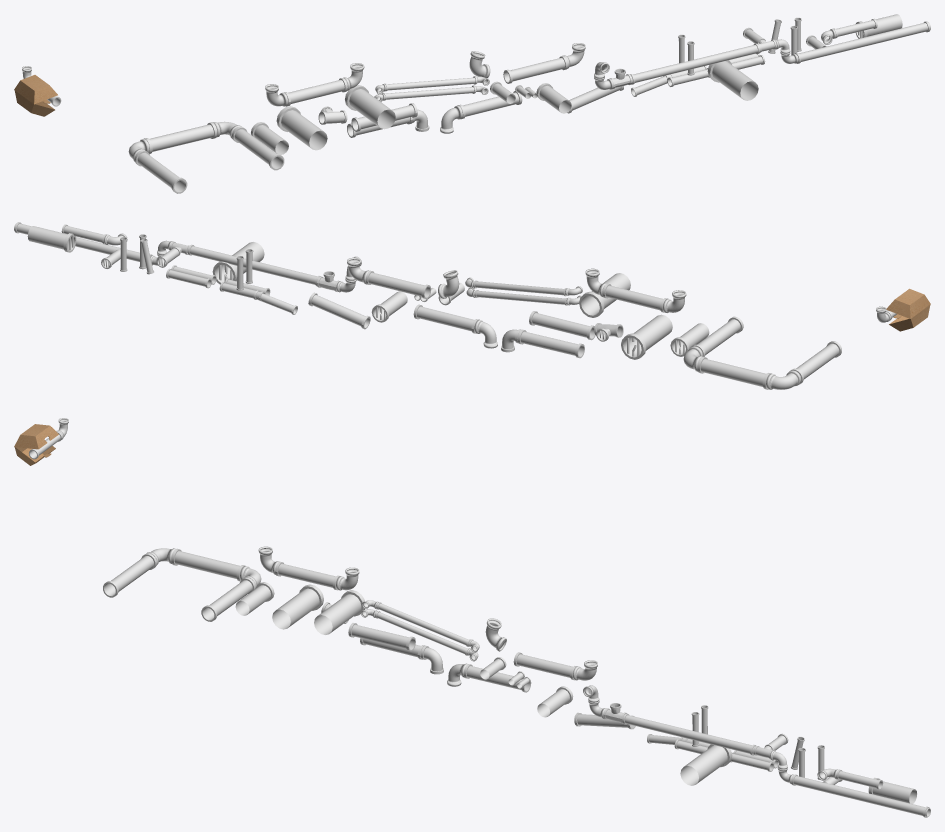
File: tuberias_one_for_all.fbx
3 views of the same model, one above another, from view 1: azimuth 30°, elevation 25°; view 2: azimuth 150°, elevation 25°; view 3: azimuth 330°, elevation 25° (orthographic).
Parts seen in each view (by area): view 1: Cylinder.003, Cylinder.023, Cylinder.040, Cylinder.047, Cylinder.022, Cylinder.055, Cylinder.058, Cylinder.059, Cylinder.064, Cylinder.049, CajaArriba, Cylinder.041 (+12 smaller); view 2: Cylinder.040, Cylinder.023, Cylinder.055, Cylinder.047, Cylinder.037, Cylinder.039, Cylinder.064, Cylinder.049, Cylinder.035, CajaArriba, Cylinder.025, Cylinder.011 (+17 smaller); view 3: Cylinder.003, Cylinder.023, Cylinder.040, Cylinder.047, Cylinder.022, Cylinder.055, Cylinder.059, Cylinder.058, Cylinder.039, Cylinder.049.
Part boxes in pixels (left/top/right/bottom): Cylinder.003: left=795, top=21, right=930, bottom=63; Cylinder.023: left=630, top=43, right=760, bottom=84; Cylinder.040: left=276, top=106, right=327, bottom=150; Cylinder.047: left=345, top=85, right=395, bottom=129; Cylinder.022: left=707, top=60, right=758, bottom=100; Cylinder.055: left=144, top=122, right=217, bottom=153; Cylinder.058: left=232, top=126, right=284, bottom=170; Cylinder.059: left=134, top=150, right=187, bottom=193; Cylinder.064: left=503, top=56, right=568, bottom=83; Cylinder.049: left=284, top=78, right=347, bottom=106; CajaArriba: left=14, top=75, right=57, bottom=104; Cylinder.041: left=251, top=122, right=288, bottom=154; Cylinder.040: left=621, top=314, right=672, bottom=359; Cylinder.023: left=187, top=244, right=320, bottom=286; Cylinder.055: left=697, top=356, right=771, bottom=389; Cylinder.047: left=579, top=273, right=630, bottom=317; Cylinder.037: left=517, top=329, right=584, bottom=358; Cylinder.039: left=529, top=311, right=595, bottom=340; Cylinder.064: left=365, top=270, right=431, bottom=298; Cylinder.049: left=602, top=283, right=668, bottom=312; Cylinder.035: left=413, top=304, right=478, bottom=333; CajaArriba: left=886, top=288, right=930, bottom=318; Cylinder.025: left=308, top=292, right=370, bottom=329; Cylinder.011: left=27, top=226, right=76, bottom=252; Cylinder.003: left=791, top=774, right=930, bottom=817; Cylinder.023: left=622, top=713, right=756, bottom=755; Cylinder.040: left=272, top=584, right=323, bottom=629; Cylinder.047: left=314, top=590, right=364, bottom=634; Cylinder.022: left=680, top=744, right=732, bottom=785; Cylinder.055: left=171, top=548, right=245, bottom=581; Cylinder.059: left=103, top=553, right=156, bottom=597; Cylinder.058: left=201, top=577, right=255, bottom=621; Cylinder.039: left=348, top=623, right=415, bottom=651; Cylinder.049: left=275, top=561, right=340, bottom=590.
Size of the model in its own units: 23544 by 4100 by 2583.
Materials: 12 (3 with a texture image).
